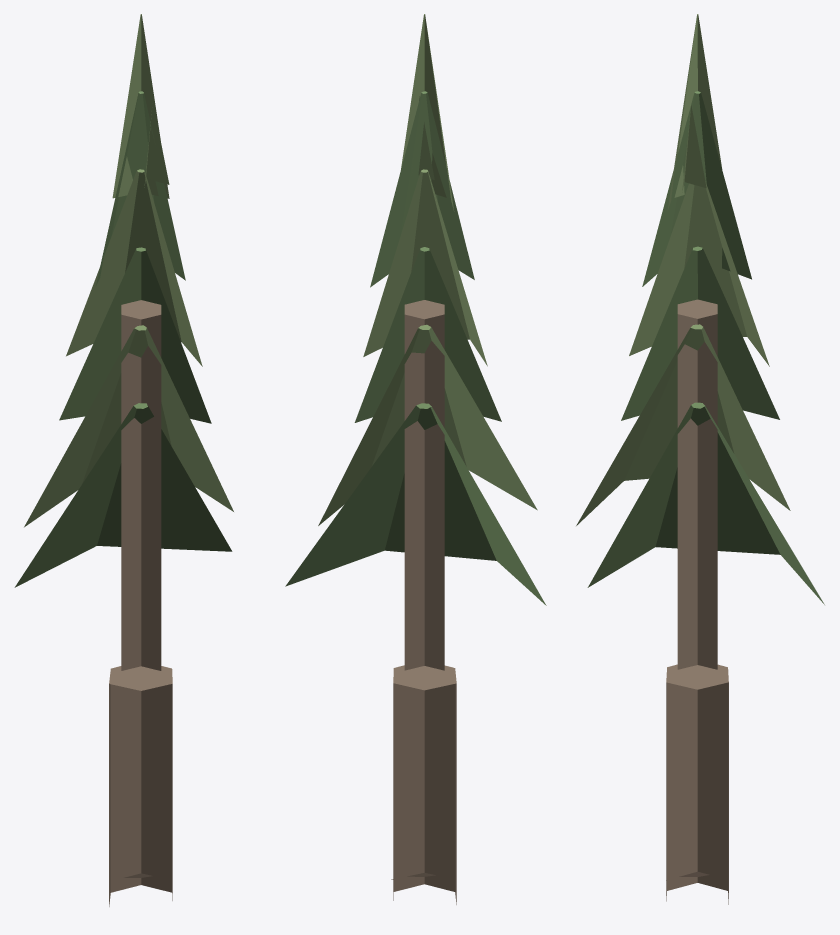
File: shu.luoye__spring.glb
The picture shows the model from 3 angles, left to right: view 1: azimuth 30°, elevation 25°; view 2: azimuth 150°, elevation 25°; view 3: azimuth 270°, elevation 25°; orthographic projection.
Parts seen in each view (by area): view 1: shu.luoye__spring; view 2: shu.luoye__spring; view 3: shu.luoye__spring.
Boxes of the visible parts, bbox=[...] form: shu.luoye__spring: bbox=[14, 14, 233, 906]; shu.luoye__spring: bbox=[285, 14, 546, 904]; shu.luoye__spring: bbox=[576, 14, 824, 904].
Size of the model in its own units: 4.86 by 18.97 by 4.86.
